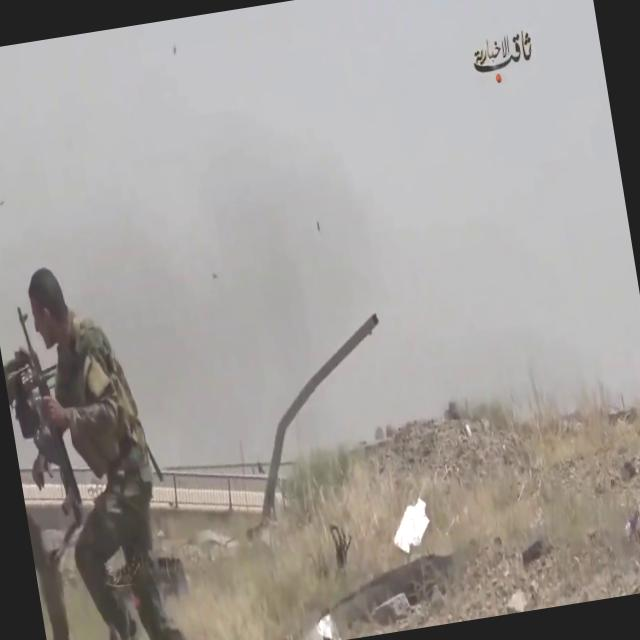long weapon: (2, 288, 94, 548)
